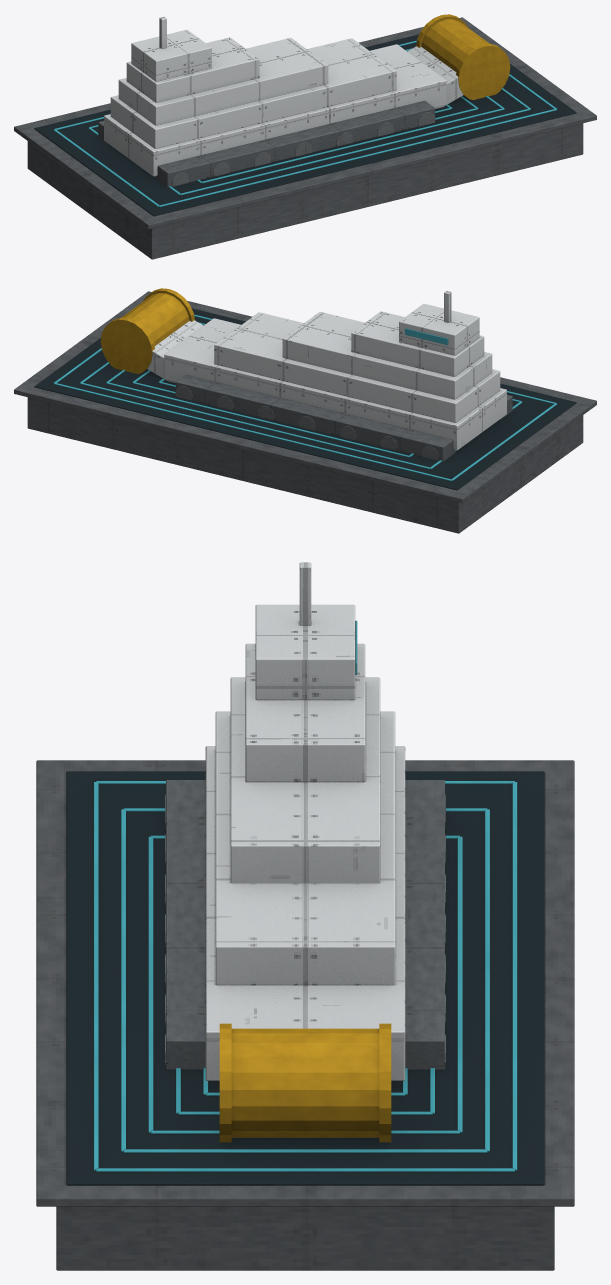
The model's file is base_sand_table.glb.
3 views of the same model, one above another, from view 1: azimuth 30°, elevation 25°; view 2: azimuth 150°, elevation 25°; view 3: azimuth 270°, elevation 25° (orthographic). The views are drawn at different scales.
Parts seen in each view (by area): view 1: base_sand_table; view 2: base_sand_table; view 3: base_sand_table.
Part boxes in pixels (bbox=[...]): base_sand_table: bbox=[14, 14, 596, 259]; base_sand_table: bbox=[14, 288, 596, 533]; base_sand_table: bbox=[36, 562, 574, 1270].
Size of the model in its own units: 10.4 by 3.95 by 5.4.
6 materials, 6 textured.
